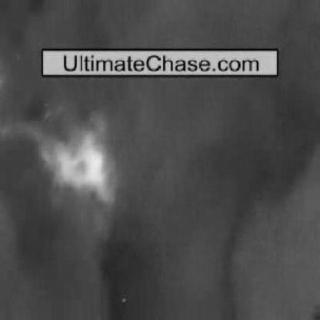Smoke: (20, 10, 308, 48)
